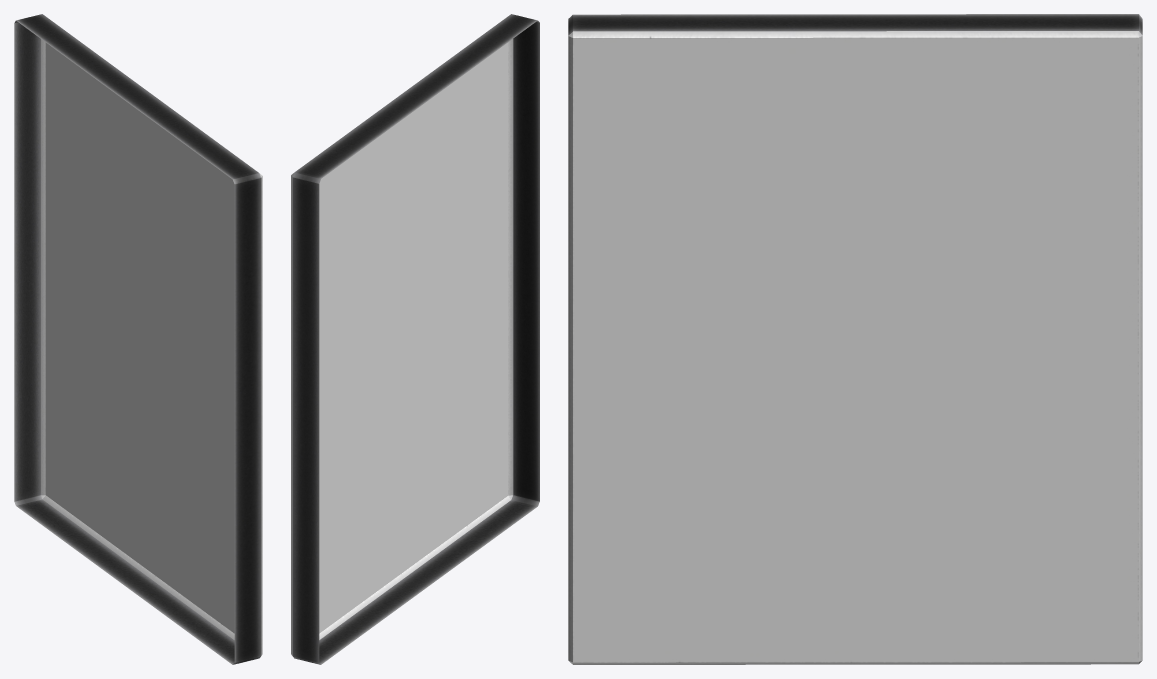
File: wall_panel02.FBX
3 views of the same model, side by side, from view 1: azimuth 30°, elevation 25°; view 2: azimuth 150°, elevation 25°; view 3: azimuth 270°, elevation 25° (orthographic). The views are drawn at different scales.
Parts seen in each view (by area): view 1: Box045; view 2: Box045; view 3: Box045.
Boxes of the visible parts, x1,y1,x2,y2 form: Box045: (14,14,262,664); Box045: (291,14,539,664); Box045: (568,14,1142,664).
Bounding box in the file's own units: 0.1805 × 2.8 × 2.3.
1 material, 1 textured.
